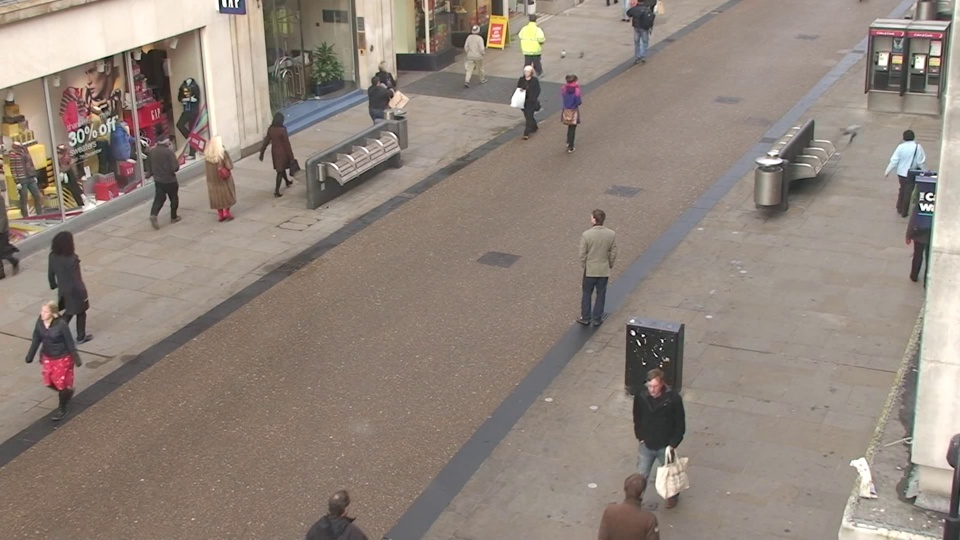pedestrian: (25, 294, 90, 435), (627, 364, 681, 524), (42, 227, 99, 350), (604, 461, 664, 540), (580, 203, 618, 323), (883, 125, 928, 226), (310, 476, 377, 540), (133, 133, 175, 230), (199, 131, 237, 228), (263, 108, 298, 200), (362, 72, 393, 155), (557, 70, 585, 153), (515, 62, 543, 144), (370, 59, 398, 139), (464, 22, 489, 92), (520, 12, 544, 78)
